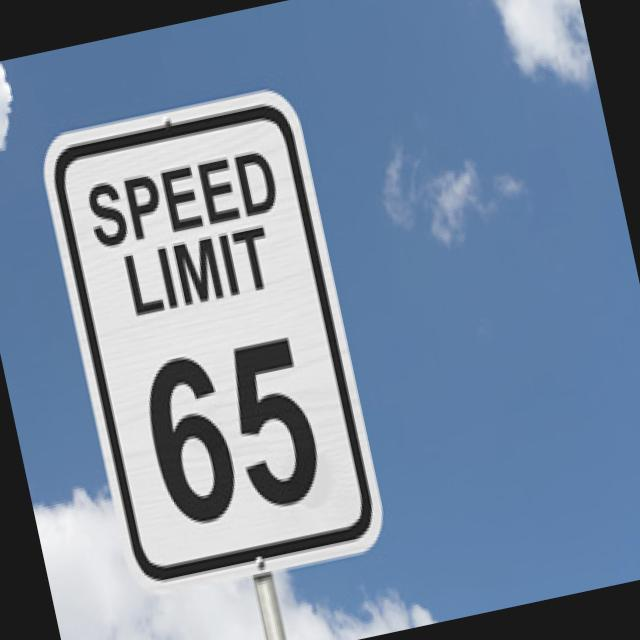Speed Limit Signs: (32, 77, 396, 603)
